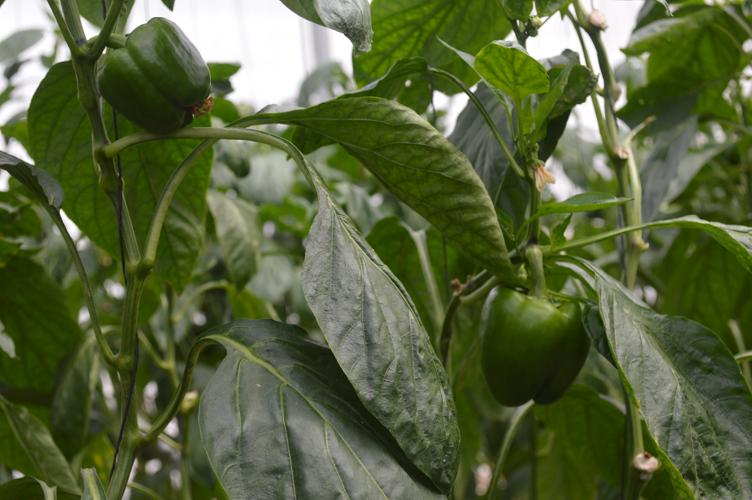BellPepper: (98, 16, 215, 135), (476, 288, 592, 402)
